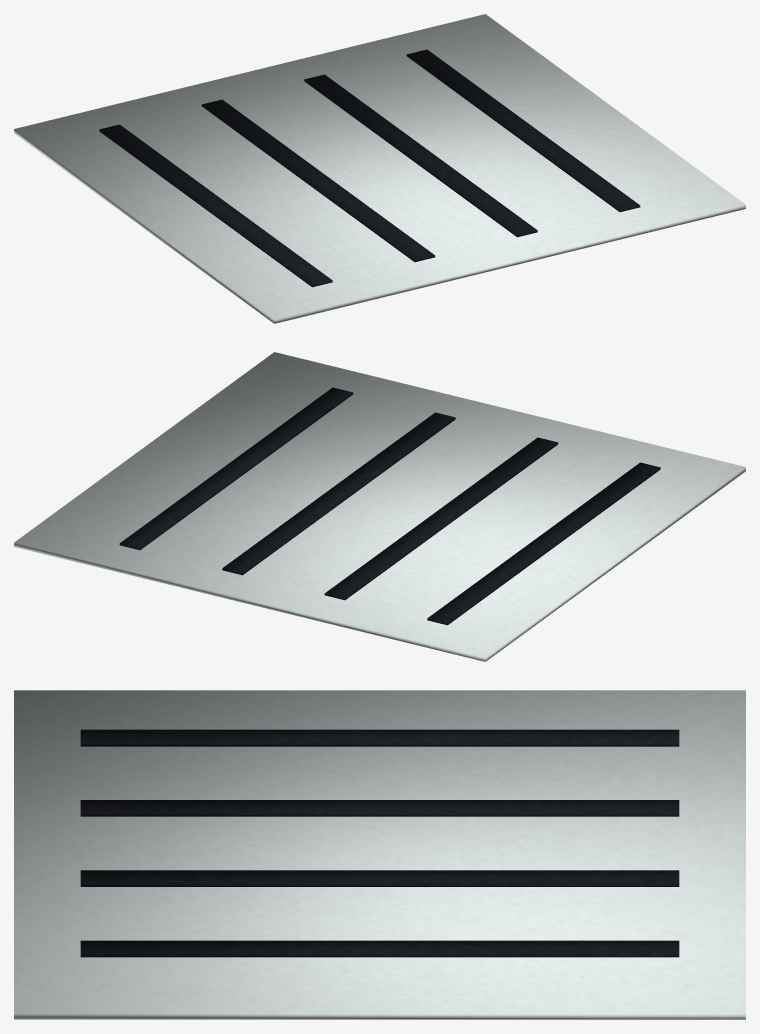
Rendered from 332_L121_CalibrationReference_1.obj.
The picture shows the model from 3 angles, top to bottom: view 1: azimuth 30°, elevation 25°; view 2: azimuth 150°, elevation 25°; view 3: azimuth 270°, elevation 25°; orthographic projection. The views are drawn at different scales.
Parts seen in each view (by area): view 1: silkscreen__PSMAT__silkscreen, black_body__PSMAT__black_body; view 2: silkscreen__PSMAT__silkscreen, black_body__PSMAT__black_body; view 3: silkscreen__PSMAT__silkscreen, black_body__PSMAT__black_body.
Part boxes in pixels (x1,y1,x2,y2): silkscreen__PSMAT__silkscreen: (14,14,745,323); black_body__PSMAT__black_body: (99,49,640,287); silkscreen__PSMAT__silkscreen: (14,352,745,661); black_body__PSMAT__black_body: (119,387,660,625); silkscreen__PSMAT__silkscreen: (14,690,745,1019); black_body__PSMAT__black_body: (80,729,679,957).
Bounding box in the file's own units: 0.023 × 0.00029 × 0.022.
Materials: 2 (2 with a texture image).
